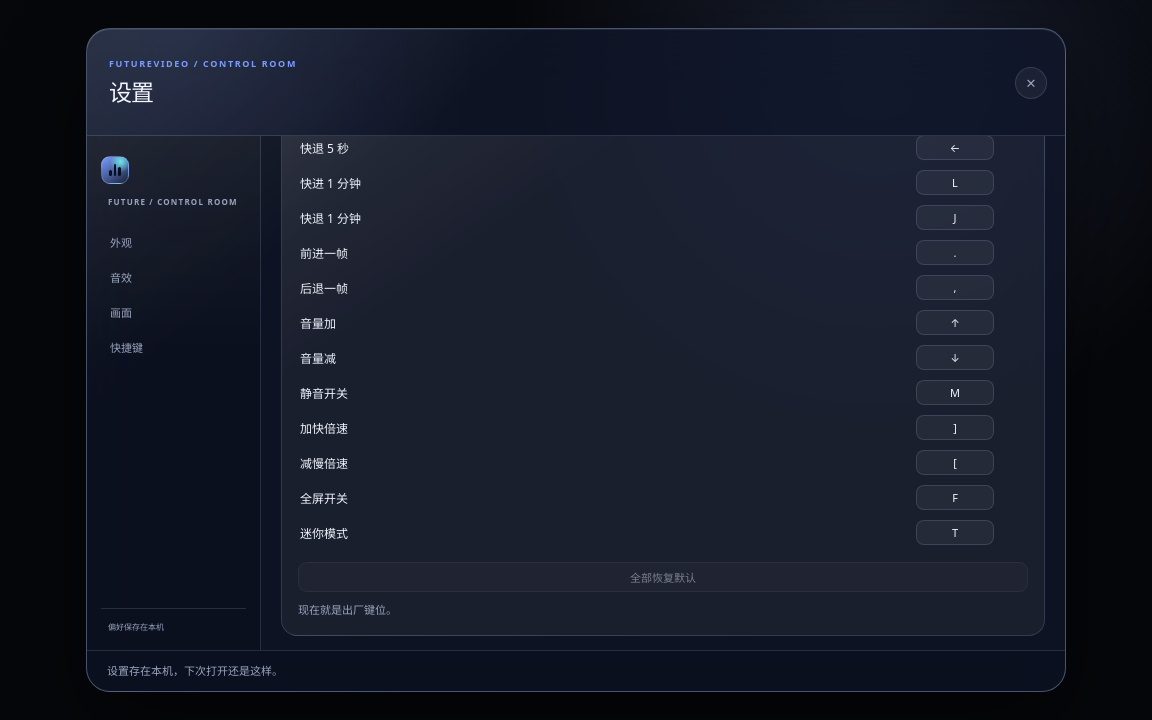
Test: 设置页 · 快捷键 › 撞上别人的键先提示，再点一次才真的换过去
The width and height of the screenshot is (1152, 720).
(page scrolled)
Click the button named "静音开关 的按键". click: (955, 392)
box: [916, 380, 994, 405]
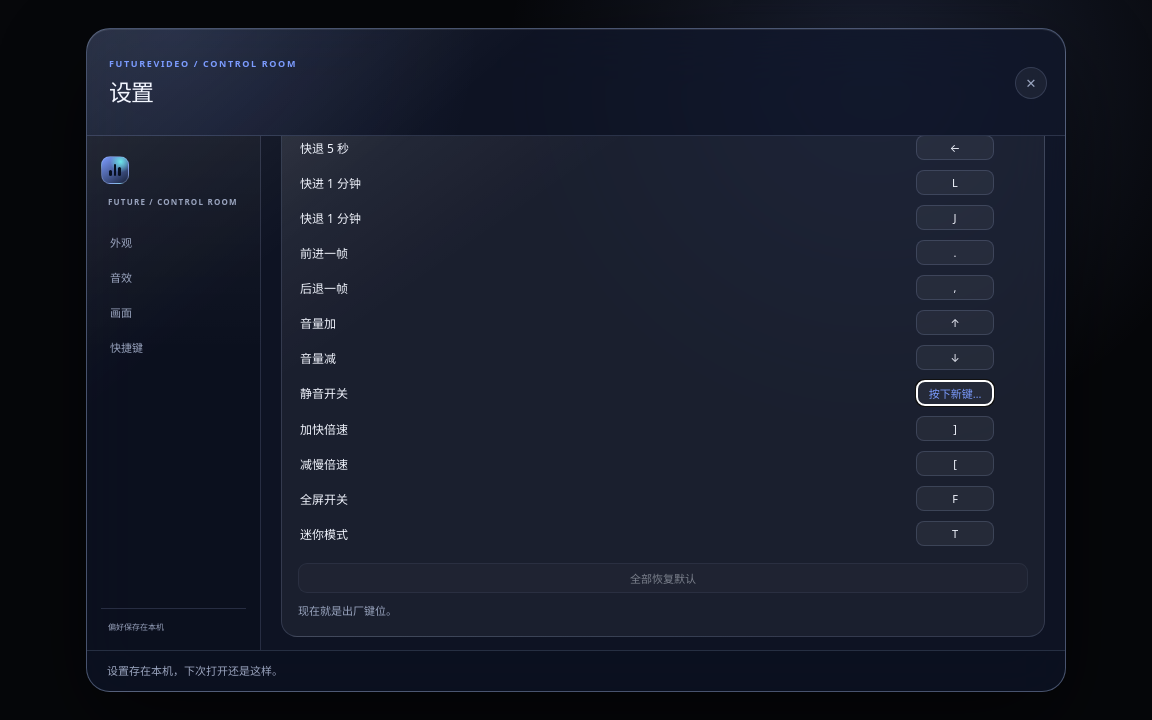
Note: 出厂键位里 KeyL 是「快进 1 分钟」
Press KeyL
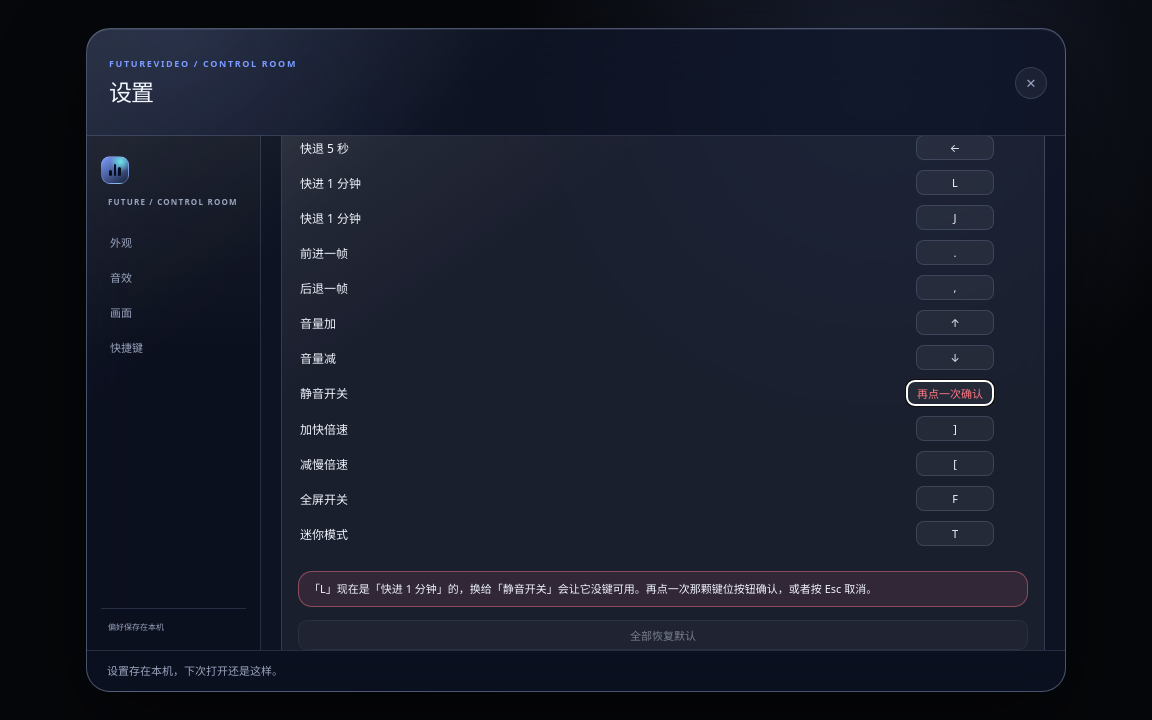
Expected: the message with test id "shortcut-conflict" shows "快进 1 分钟", [381, 581, 437, 596]
Expected: the button with aria-label "静音开关 的按键" reads "再点一次确认"
Click the button with aria-label "静音开关 的按键". click: (950, 393)
box: [906, 380, 994, 406]
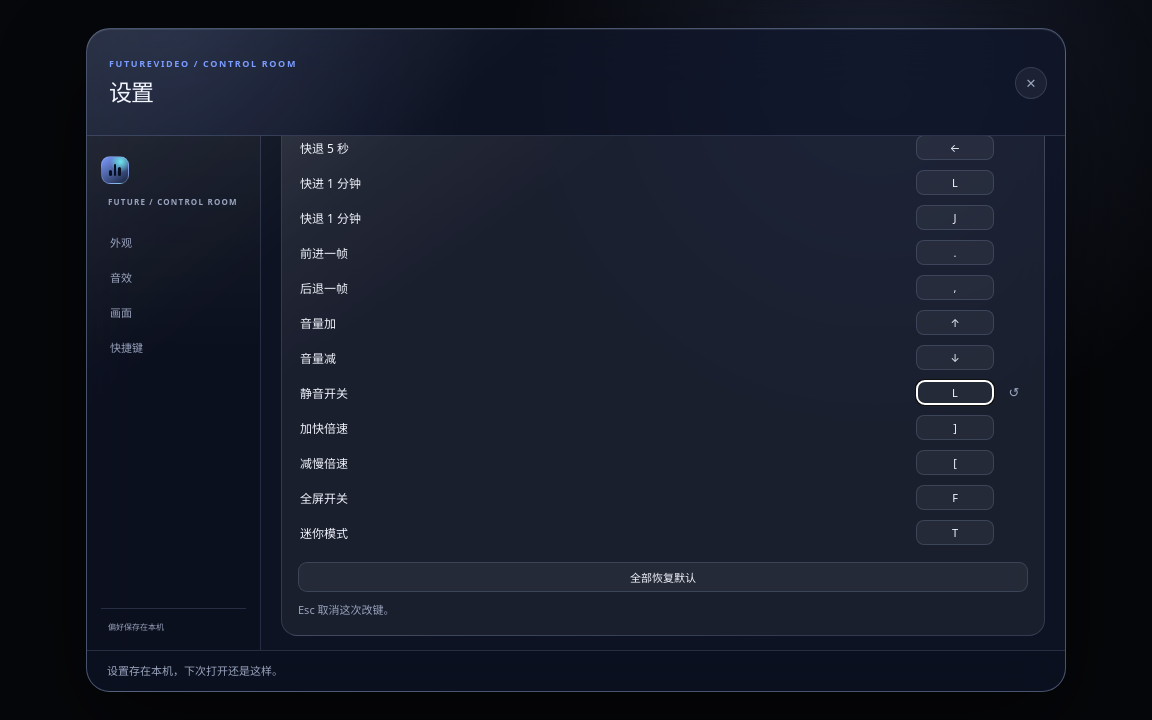
Expected: the button named "静音开关 的按键" reads "L", [916, 380, 994, 405]
